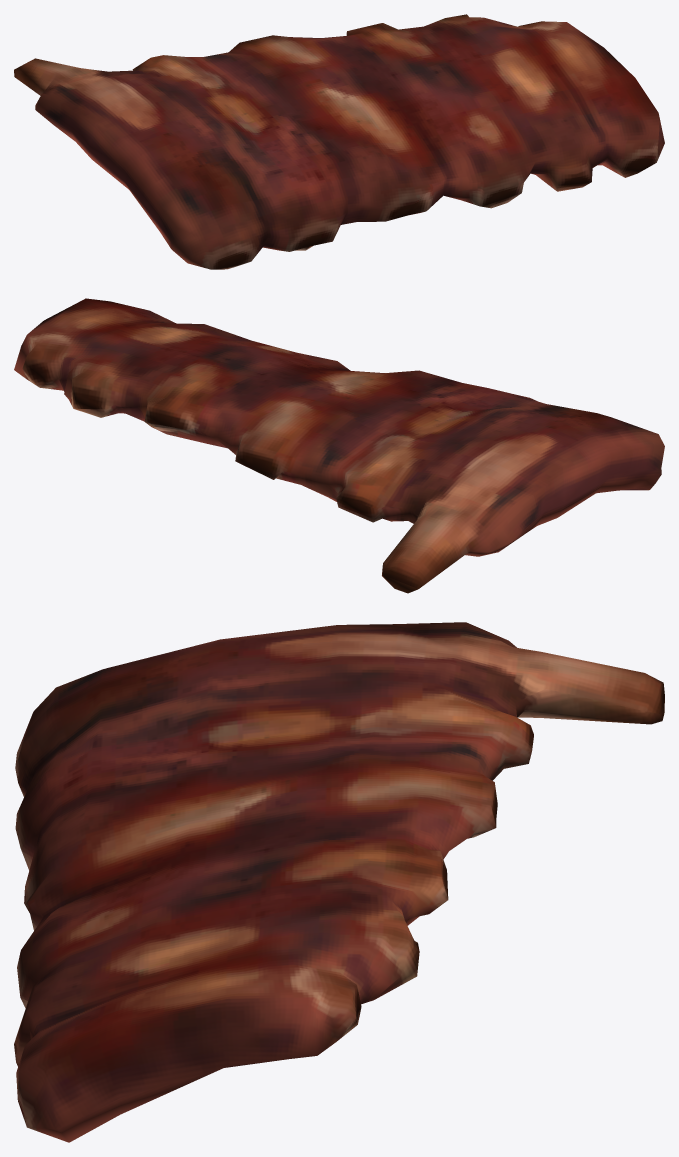
Rendered from ref_ribsbig.glb.
The picture shows the model from 3 angles, top to bottom: view 1: azimuth 30°, elevation 25°; view 2: azimuth 150°, elevation 25°; view 3: azimuth 270°, elevation 25°; orthographic projection. The views are drawn at different scales.
Parts seen in each view (by area): view 1: ref_ribsbig; view 2: ref_ribsbig; view 3: ref_ribsbig.
Boxes of the visible parts, x1,y1,x2,y2 form: ref_ribsbig: [14, 14, 664, 269]; ref_ribsbig: [14, 298, 664, 593]; ref_ribsbig: [14, 622, 664, 1142].
Size of the model in its own units: 1 by 0.1988 by 0.7089.
1 material, 1 textured.
